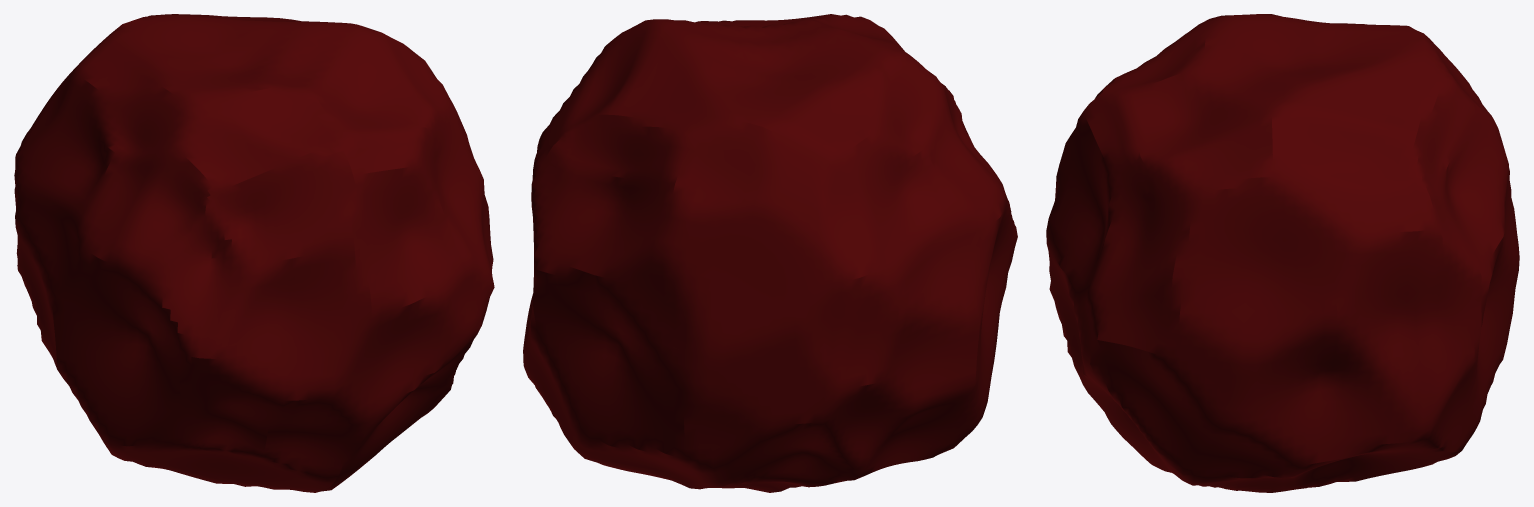
File: rock2.fbx
The picture shows the model from 3 angles, left to right: view 1: azimuth 30°, elevation 25°; view 2: azimuth 150°, elevation 25°; view 3: azimuth 270°, elevation 25°; orthographic projection. The views are drawn at different scales.
Parts seen in each view (by area): view 1: Cube; view 2: Cube; view 3: Cube.
Boxes of the visible parts, <box> form: Cube: <box>14,14,494,492</box>; Cube: <box>523,14,1017,492</box>; Cube: <box>1046,14,1519,492</box>.
Size of the model in its own units: 167 by 162 by 170.
